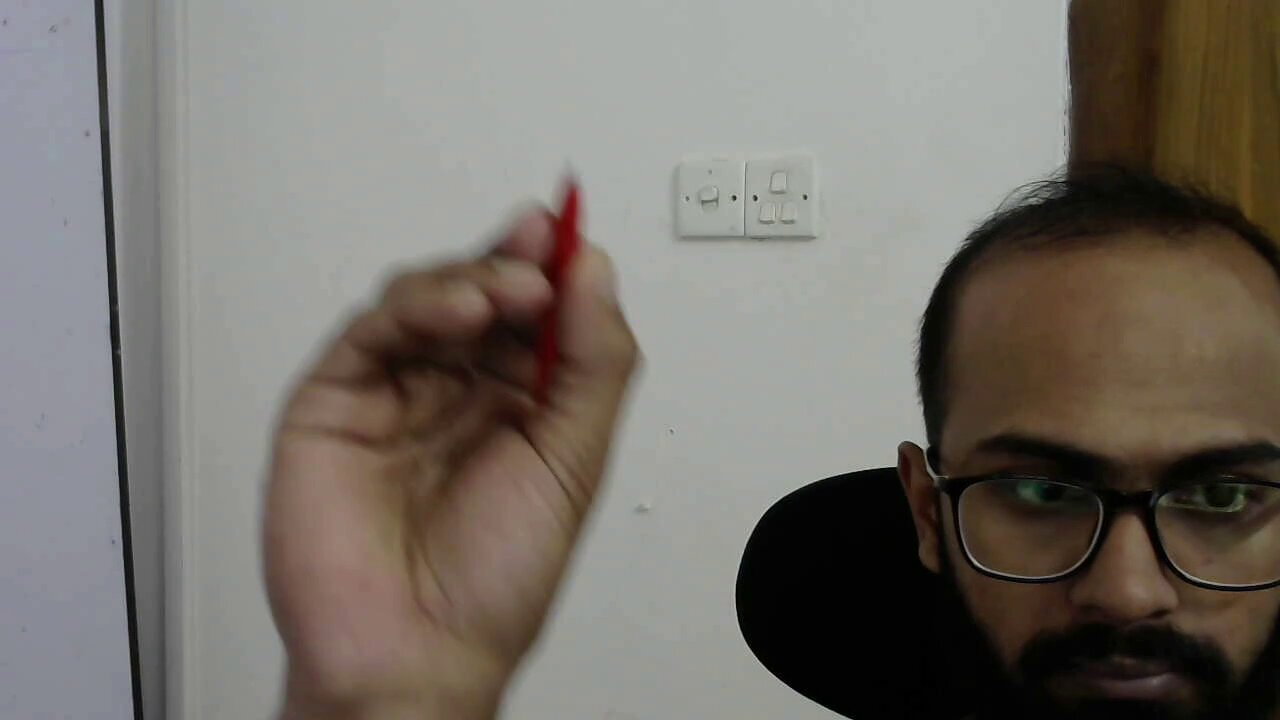pointer: (261, 192, 650, 629)
